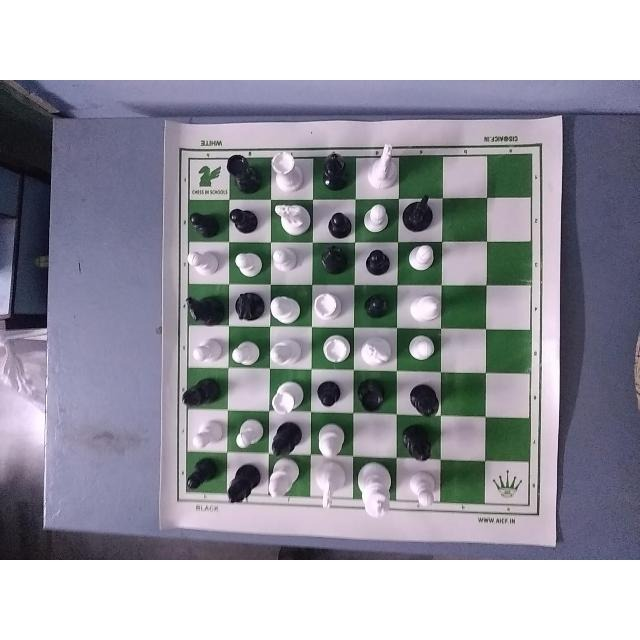black-bishop: (224, 458, 264, 510), (179, 373, 224, 414), (400, 421, 440, 467), (316, 146, 352, 194), (315, 240, 354, 284), (266, 419, 304, 463), (408, 379, 443, 423)
black-knight: (180, 290, 228, 330), (398, 192, 438, 239), (229, 287, 267, 327)
black-pawn: (180, 456, 224, 498), (319, 205, 357, 245), (314, 376, 353, 412), (359, 244, 397, 280), (185, 206, 226, 239), (365, 286, 393, 326), (226, 203, 260, 235)
black-rook: (223, 151, 263, 197), (353, 376, 397, 417)
white-bishop: (262, 457, 307, 504), (267, 332, 307, 370), (267, 288, 307, 326), (403, 293, 445, 329), (316, 422, 352, 458)
white-king: (356, 458, 395, 524)
white-knight: (311, 462, 349, 510), (364, 140, 399, 192), (362, 333, 398, 373), (271, 201, 309, 237)
white-pawn: (406, 466, 438, 510), (187, 415, 225, 452), (400, 332, 441, 365), (232, 244, 266, 282), (228, 339, 268, 370), (230, 415, 263, 451), (183, 247, 221, 277), (410, 240, 439, 276), (189, 341, 229, 367), (362, 202, 394, 234), (271, 242, 302, 275)
white-rook: (272, 148, 308, 196), (318, 326, 354, 366), (267, 379, 302, 417), (313, 291, 355, 322)
